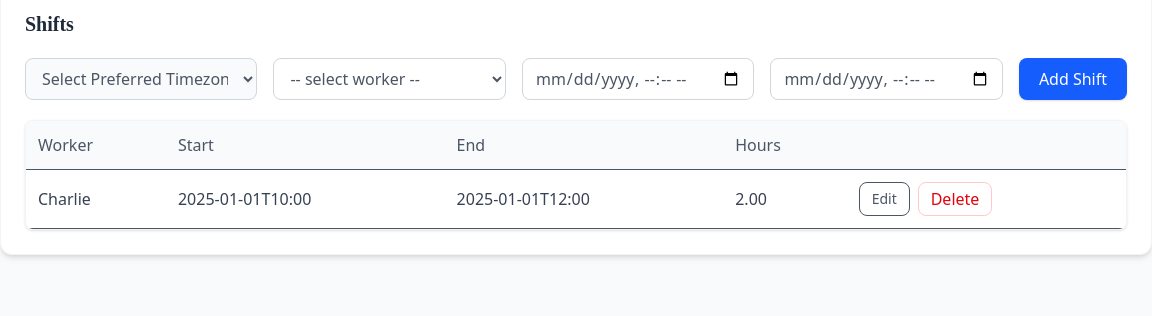
Scenario: ShiftList.vue › rejects overlapping shifts
Select "UTC" in the 1st dropdown: (141, 79) [25,58,258,100]
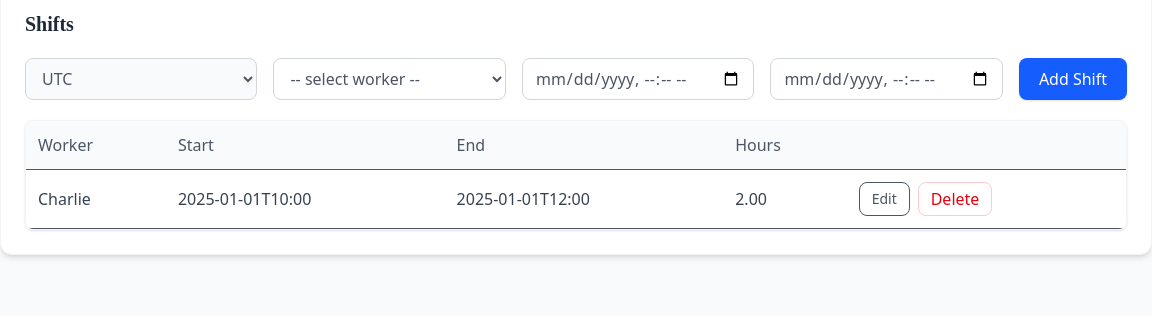
Select "Charlie" in the 2nd dropdown: (390, 79) [274,58,506,100]
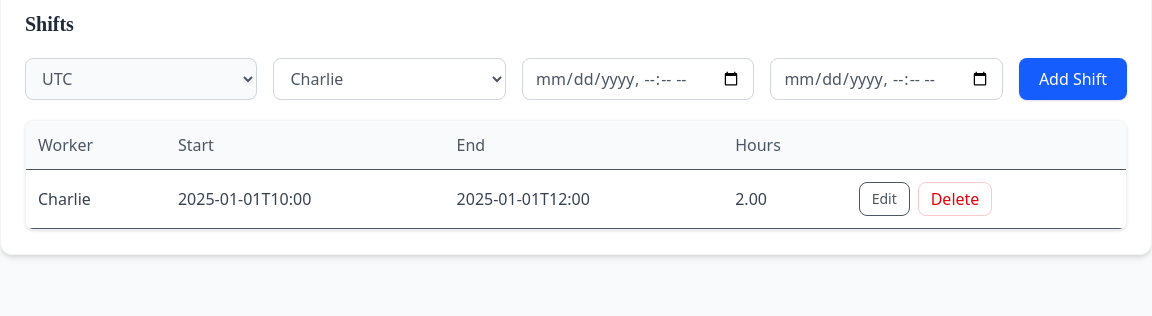
In the 1st field: (638, 79) [522,58,754,100], type "2025-01-01T11:00"
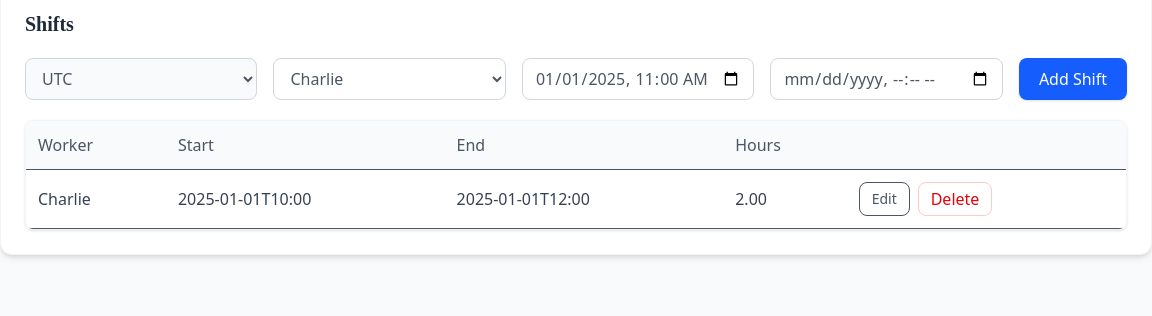
In the 2nd field: (887, 79) [770,58,1003,100], type "2025-01-01T13:00"
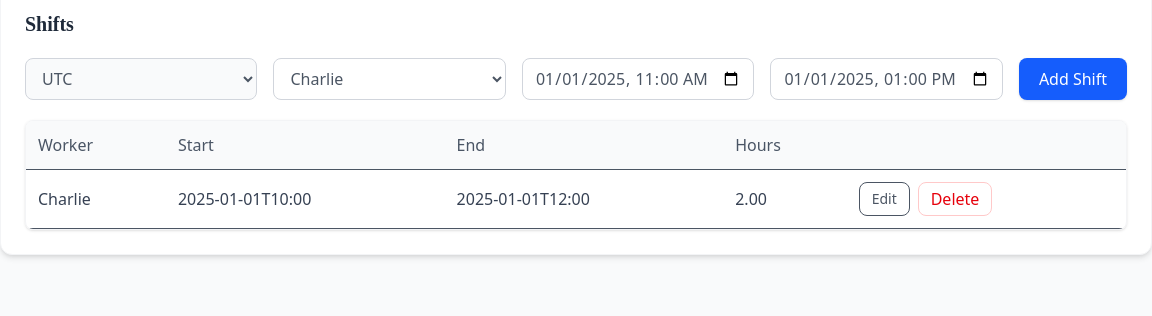
Click the button "Add Shift": (1073, 79) [1019,58,1127,100]
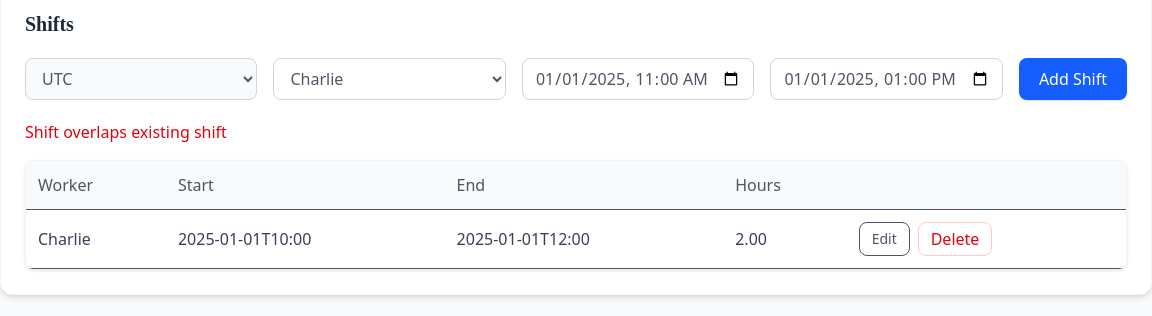
Result: the text "Shift overlaps existing shift" is shown at [25,121,227,143]
